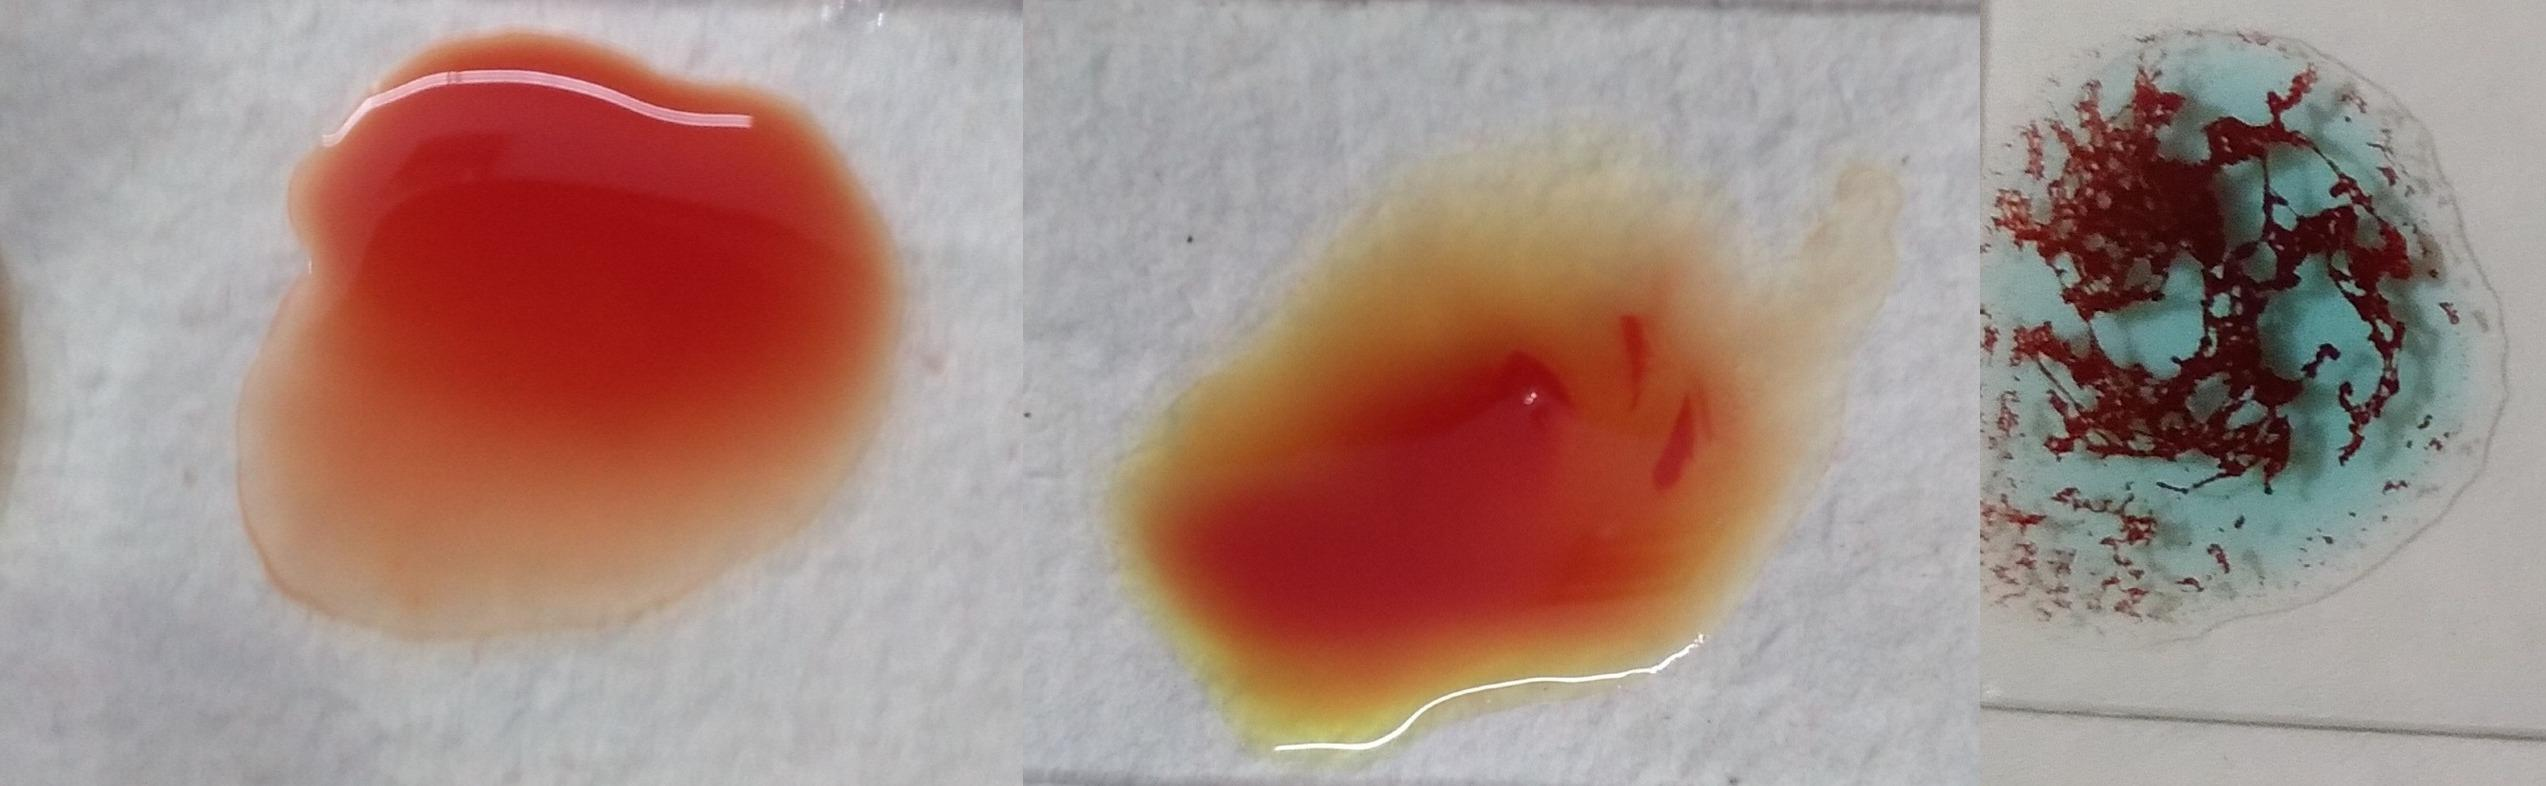A: (1996, 18, 2479, 637)
